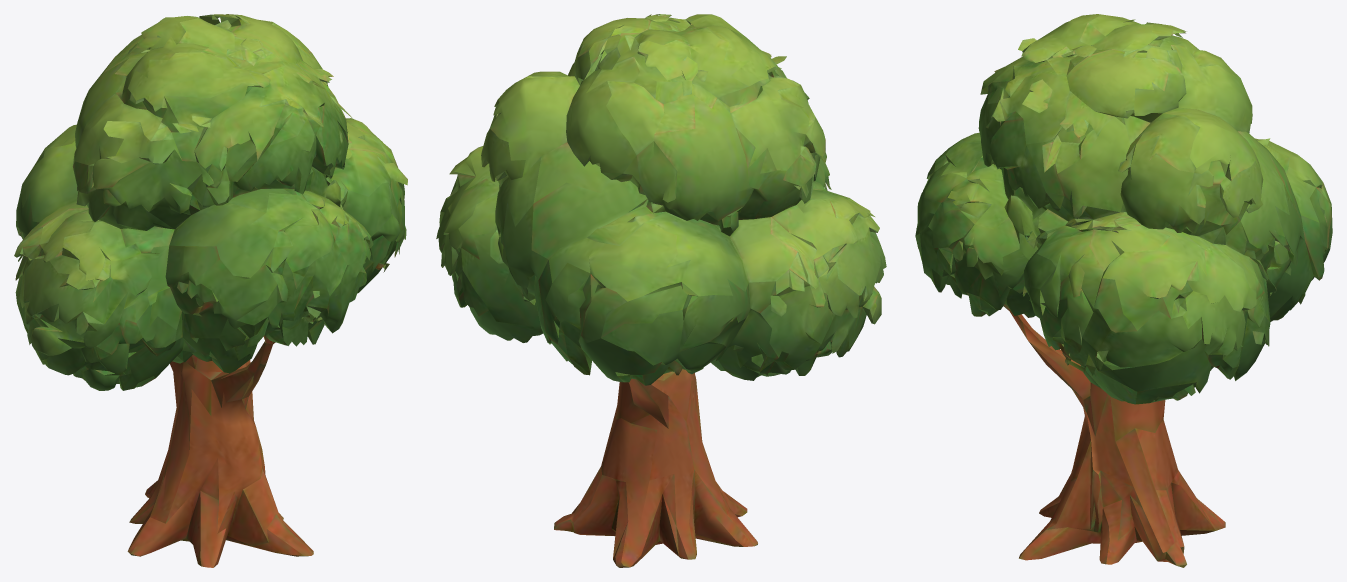
The model's file is sunlit-canopy.glb.
3 renders of one model, left to right at view 1: azimuth 30°, elevation 25°; view 2: azimuth 150°, elevation 25°; view 3: azimuth 270°, elevation 25°, orthographic.
Parts seen in each view (by area): view 1: output_unwrapped; view 2: output_unwrapped; view 3: output_unwrapped.
Part boxes in pixels (x1,y1,x2,y2): output_unwrapped: (14,14,407,567); output_unwrapped: (436,14,886,567); output_unwrapped: (915,14,1332,567).
Size of the model in its own units: 1.55 by 1.9 by 1.43.
1 material, 1 textured.
